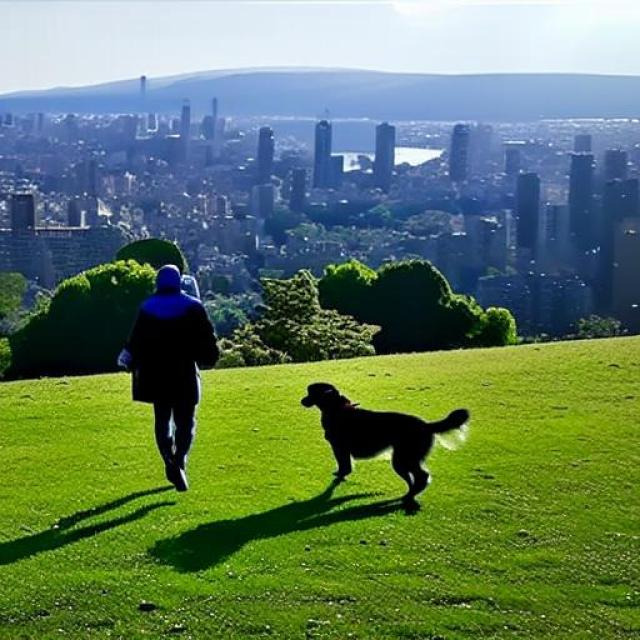Unleashed_Dog: (140, 362, 469, 504)
